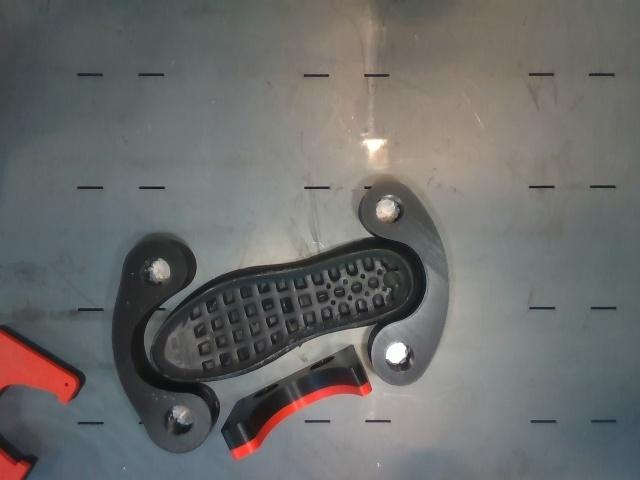shoes: (152, 249, 412, 379)
